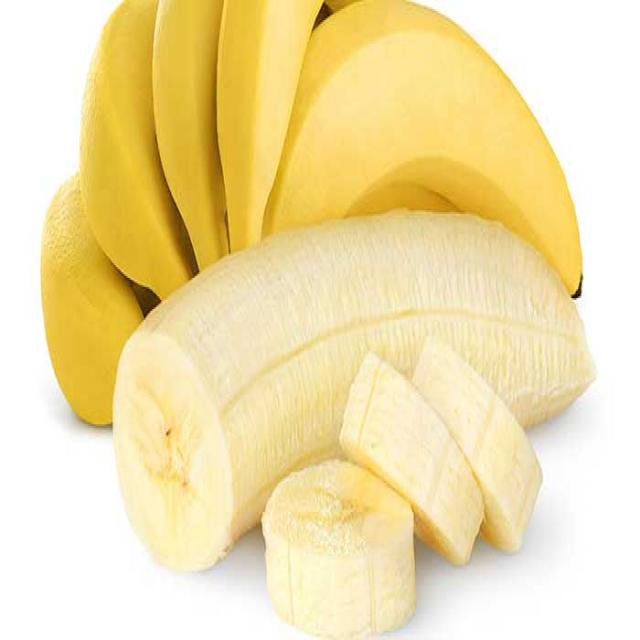banana: (48, 3, 583, 439), (106, 210, 601, 640)
